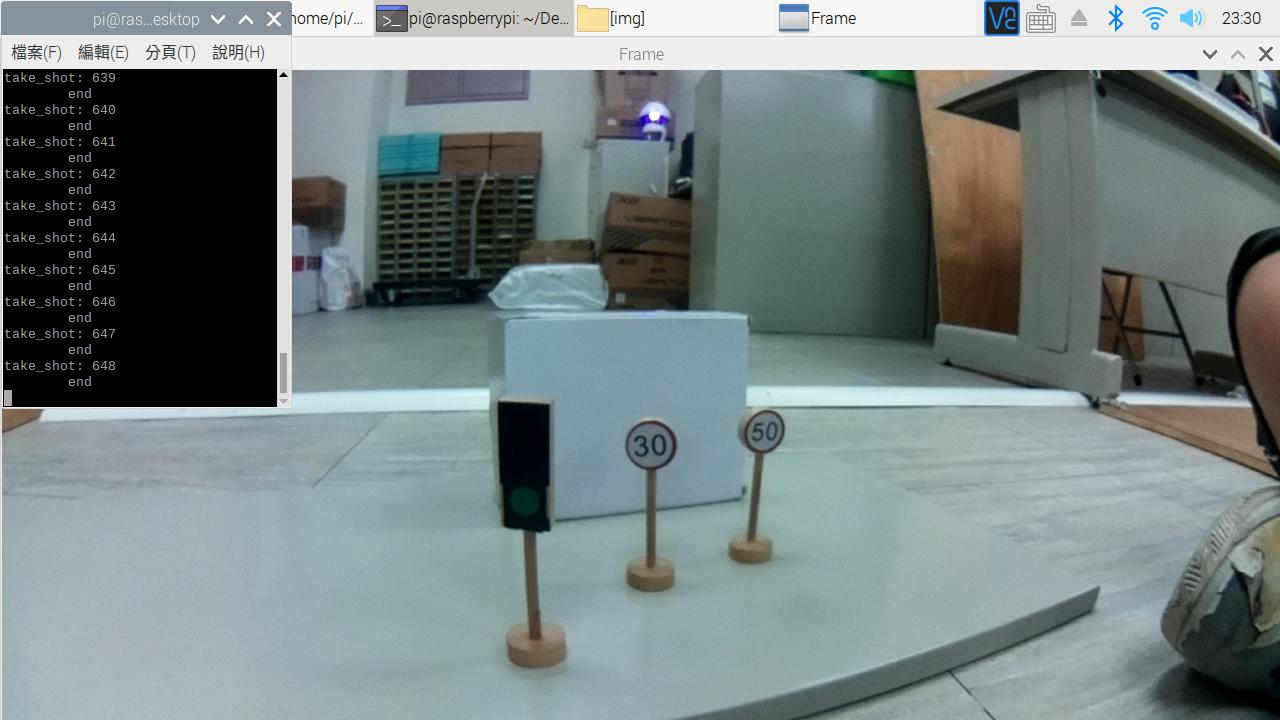Green: (479, 392, 568, 546)
Speed30: (616, 416, 686, 481)
Speed50: (731, 395, 804, 465)
